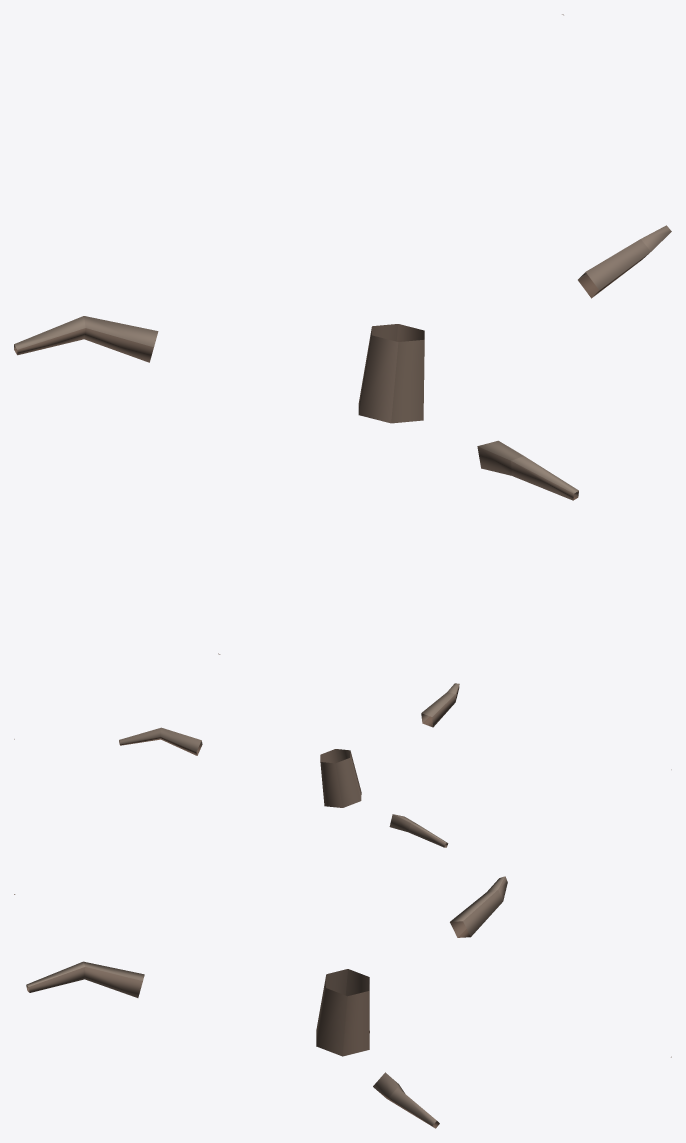
The model's file is Juniper1_bark.glb.
3 renders of one model, top to bottom at view 1: azimuth 30°, elevation 25°; view 2: azimuth 150°, elevation 25°; view 3: azimuth 270°, elevation 25°, orthographic. The views are drawn at different scales.
Parts seen in each view (by area): view 1: Juniper1_bark; view 2: Juniper1_bark; view 3: Juniper1_bark.
Boxes of the visible parts, left/top/right/bottom form: Juniper1_bark: left=14, top=14, right=671, bottom=654; Juniper1_bark: left=14, top=683, right=671, bottom=847; Juniper1_bark: left=14, top=876, right=671, bottom=1128.
Bounding box in the file's own units: 7.32 × 1.55 × 6.82.
